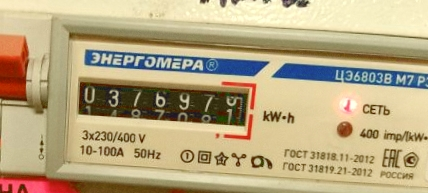0: (82, 83, 96, 104)
1: (223, 106, 235, 124)
3: (106, 86, 120, 107)
6: (153, 86, 167, 108)
7: (129, 86, 143, 107), (201, 91, 214, 113)
9: (177, 89, 190, 111)
screen: (67, 67, 261, 141)
